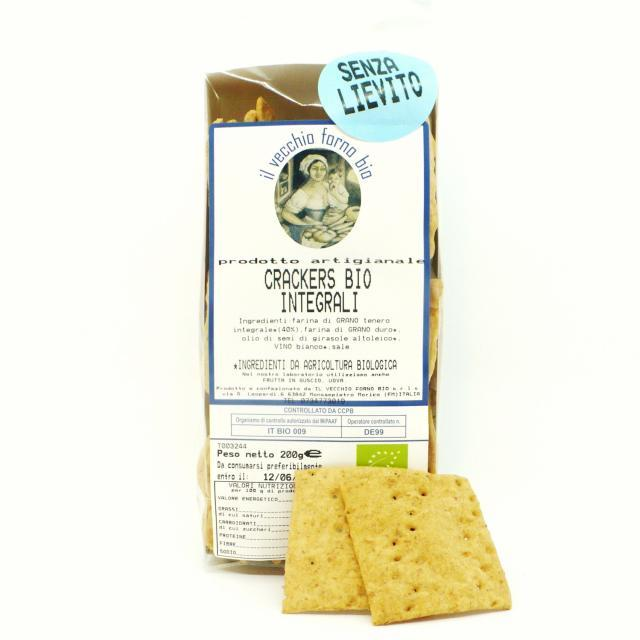Cracker: (334, 469, 517, 625)
